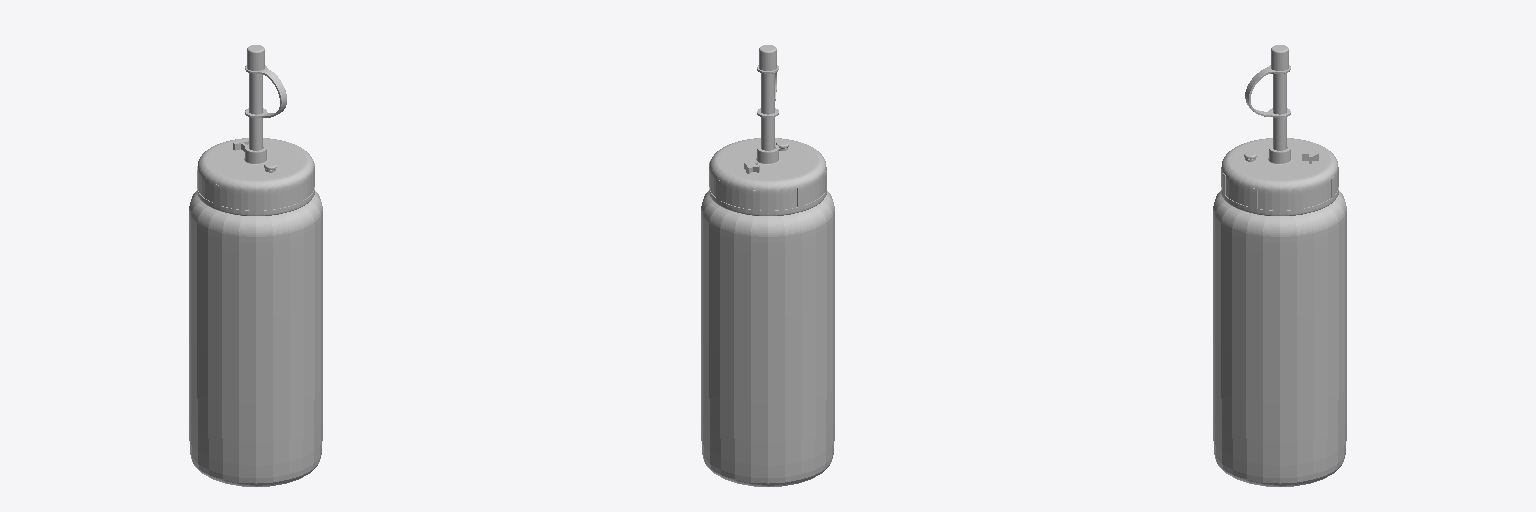
The model's file is PEPSILINDRO.obj.
3 renders of one model, left to right at view 1: azimuth 30°, elevation 25°; view 2: azimuth 150°, elevation 25°; view 3: azimuth 270°, elevation 25°, orthographic.
Visible parts, largest first — view 1: PEPSILINDRO; view 2: PEPSILINDRO; view 3: PEPSILINDRO.
Boxes of the visible parts, x1=… form: PEPSILINDRO: x1=189, y1=45, x2=322, y2=486; PEPSILINDRO: x1=701, y1=45, x2=834, y2=486; PEPSILINDRO: x1=1213, y1=45, x2=1346, y2=486.
Size of the model in its own units: 876 by 2970 by 871.